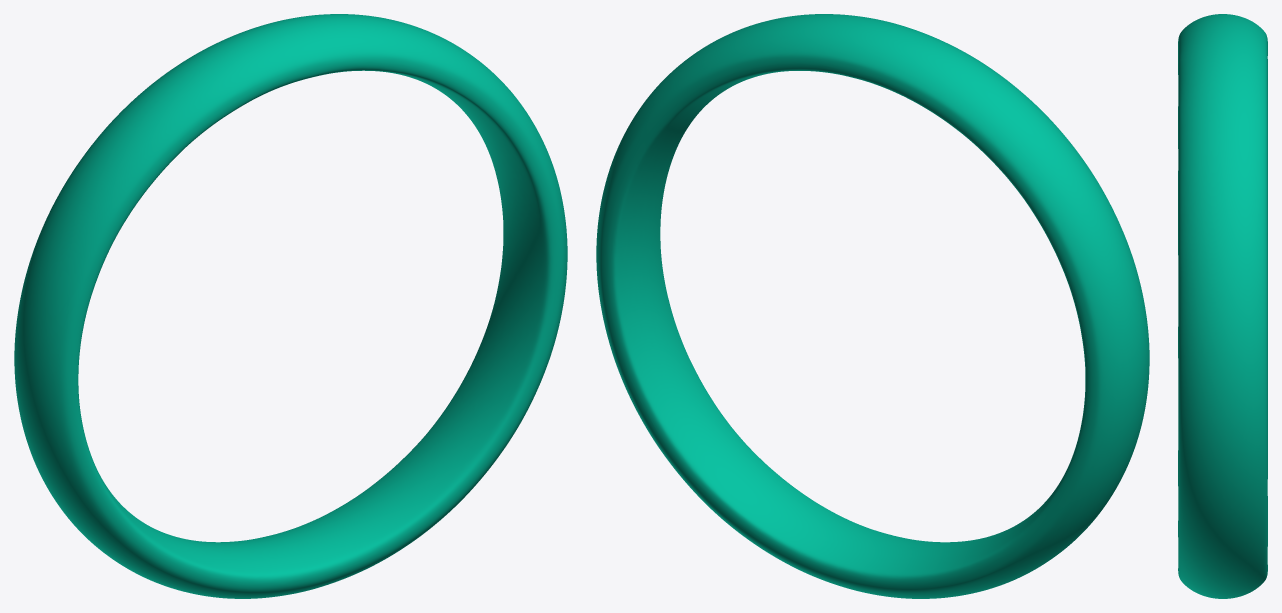
Rendered from BE2123_RENDER.glb.
3 renders of one model, left to right at view 1: azimuth 30°, elevation 25°; view 2: azimuth 150°, elevation 25°; view 3: azimuth 270°, elevation 25°, orthographic. The views are drawn at different scales.
Parts seen in each view (by area): view 1: Metal03; view 2: Metal03; view 3: Metal03.
Part boxes in pixels (bbox=[...]): Metal03: bbox=[14, 14, 567, 598]; Metal03: bbox=[596, 14, 1149, 598]; Metal03: bbox=[1178, 14, 1267, 598].
Bounding box in the file's own units: 19.5 × 19.5 × 2.99.
